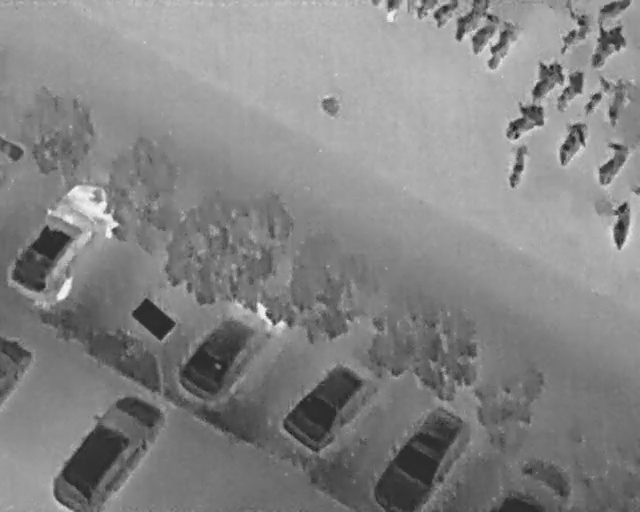Bicycle: (575, 13, 636, 78), (545, 1, 601, 62), (474, 14, 528, 76), (493, 92, 553, 145), (546, 113, 598, 174), (517, 50, 572, 107), (584, 135, 634, 189), (547, 64, 594, 119), (574, 69, 619, 122), (462, 6, 506, 60), (601, 76, 633, 130), (455, 0, 490, 43), (606, 199, 634, 251), (505, 143, 529, 192), (433, 0, 457, 28), (599, 0, 630, 18), (414, 0, 438, 20), (386, 0, 402, 23)
Car: (0, 169, 130, 315), (167, 275, 294, 416), (52, 393, 165, 511), (275, 349, 384, 462), (373, 399, 472, 511), (0, 335, 40, 406)
